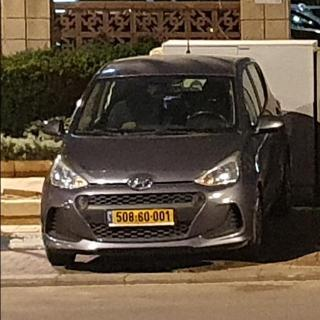LicensePlate: (113, 210, 173, 223)
